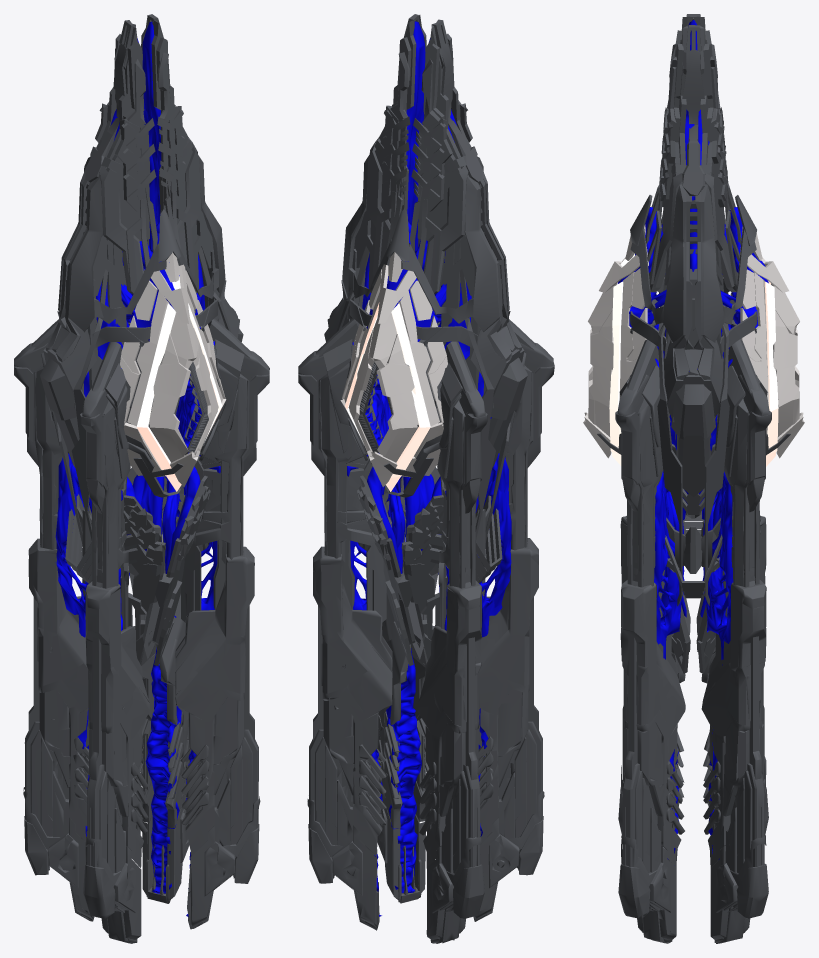
File: Obelisk.glb
3 renders of one model, left to right at view 1: azimuth 30°, elevation 25°; view 2: azimuth 150°, elevation 25°; view 3: azimuth 270°, elevation 25°, orthographic.
Parts seen in each view (by area): view 1: SM_Obelisk_A; view 2: SM_Obelisk_A; view 3: SM_Obelisk_A.
Boxes of the visible parts, x1,y1,x2,y2 form: SM_Obelisk_A: (14,14,269,943); SM_Obelisk_A: (298,14,554,943); SM_Obelisk_A: (583,14,804,943).
Size of the model in its own units: 195 by 859 by 191.
